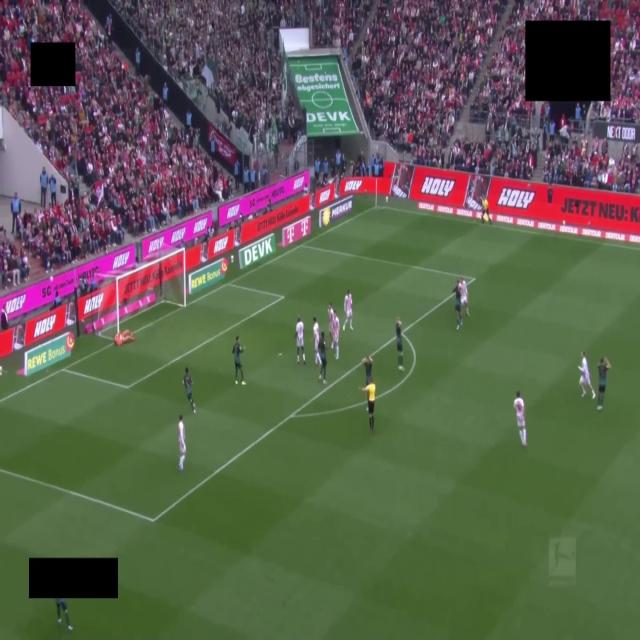player: (579, 352, 595, 399), (514, 392, 526, 447), (598, 358, 610, 410), (233, 336, 245, 385), (183, 368, 195, 413), (56, 599, 72, 631), (178, 415, 186, 471), (453, 280, 462, 329), (396, 318, 404, 371), (296, 317, 305, 364), (318, 332, 326, 384), (331, 314, 340, 359), (343, 290, 352, 329), (460, 278, 469, 316), (313, 317, 320, 365), (114, 330, 134, 346), (363, 356, 372, 385), (328, 303, 335, 332)
referee: (361, 378, 375, 433)
